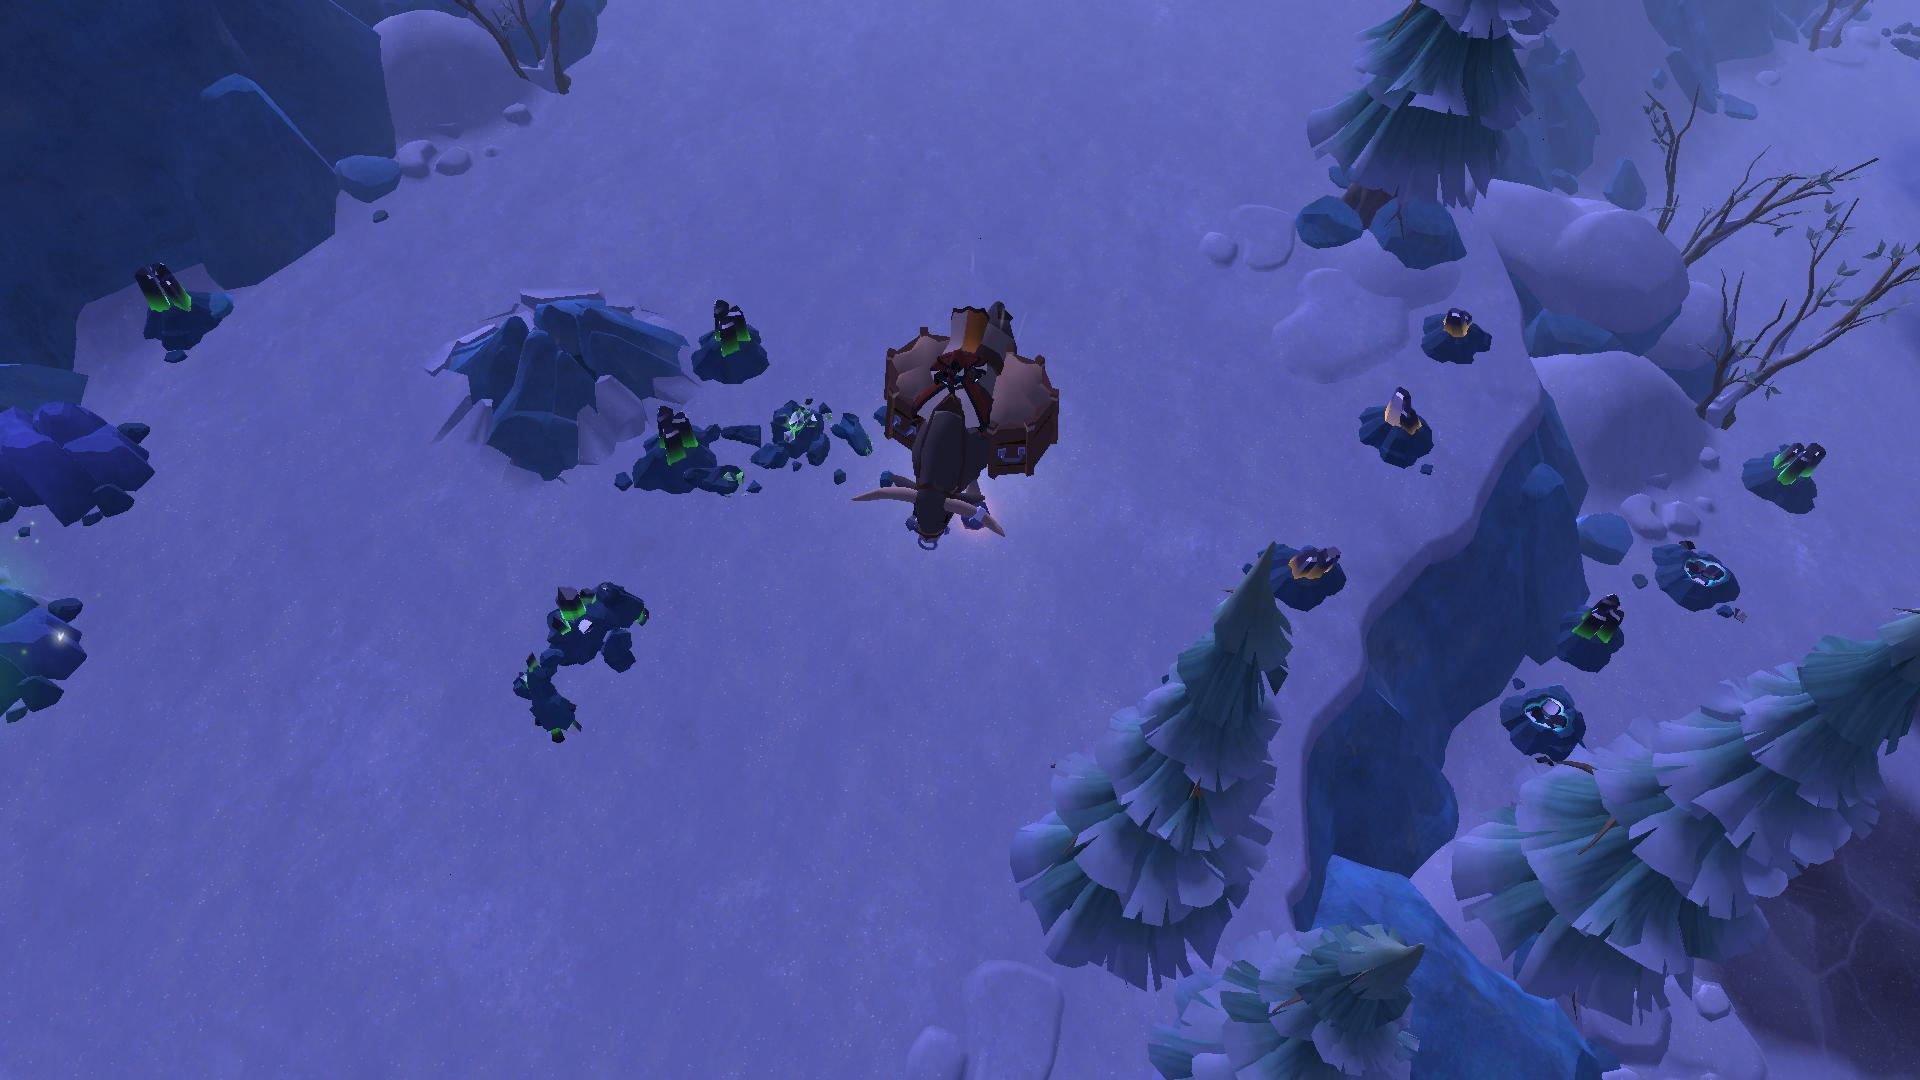ore_t3: (135, 249, 198, 314), (653, 400, 695, 484), (704, 294, 760, 355), (1568, 587, 1621, 647), (1771, 435, 1825, 492)
rock_t4: (0, 389, 149, 522)
